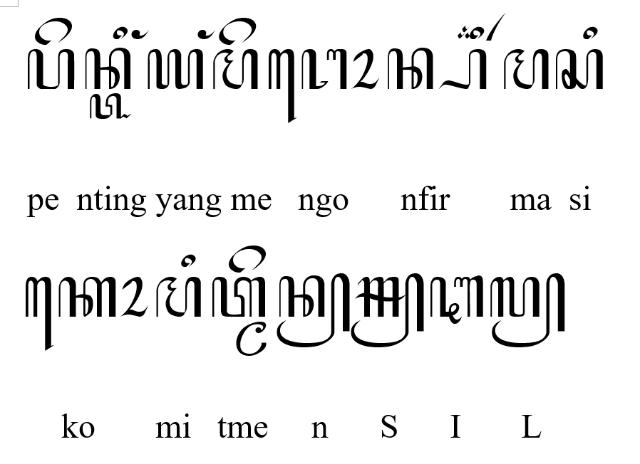-S: (350, 273, 426, 349)
-l: (490, 273, 566, 348)
-n: (276, 272, 350, 350)
I: (430, 275, 484, 325)
_m: (235, 322, 267, 356)
_p: (438, 49, 488, 91)
_r1: (486, 12, 506, 40)
_t: (90, 92, 132, 120)
alt: (457, 24, 473, 40)
e: (218, 16, 258, 46), (34, 16, 72, 46), (228, 245, 266, 273)
e1: (24, 276, 54, 352), (268, 48, 296, 124)
i: (180, 253, 196, 269), (112, 26, 128, 40), (582, 26, 598, 40), (470, 26, 484, 40)
k: (57, 276, 116, 318)
m: (502, 48, 550, 90), (155, 277, 203, 319), (212, 48, 258, 90)
n: (84, 46, 132, 90), (387, 46, 435, 90)
ng: (130, 28, 150, 40), (197, 29, 216, 39)
nga: (302, 48, 348, 90)
o: (350, 48, 380, 90), (119, 276, 149, 317)
p: (26, 48, 76, 90)
s: (556, 48, 604, 90)
t: (211, 276, 267, 318)
y: (148, 48, 205, 90)
